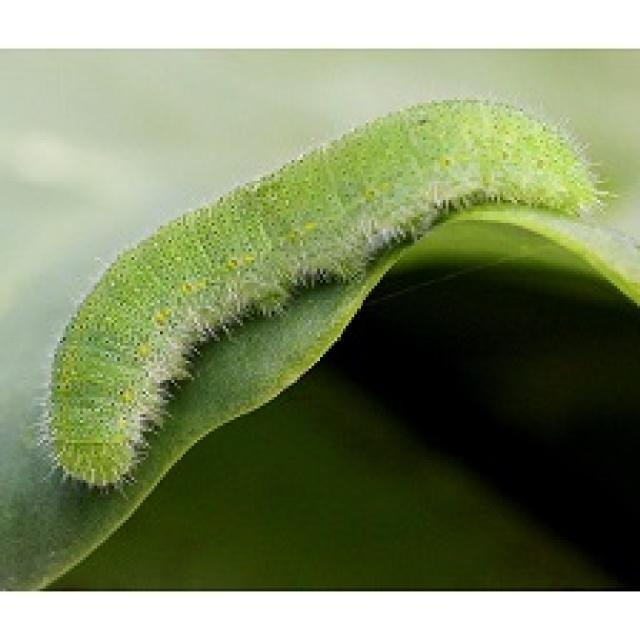Cabbage-worm: (36, 87, 606, 469)
